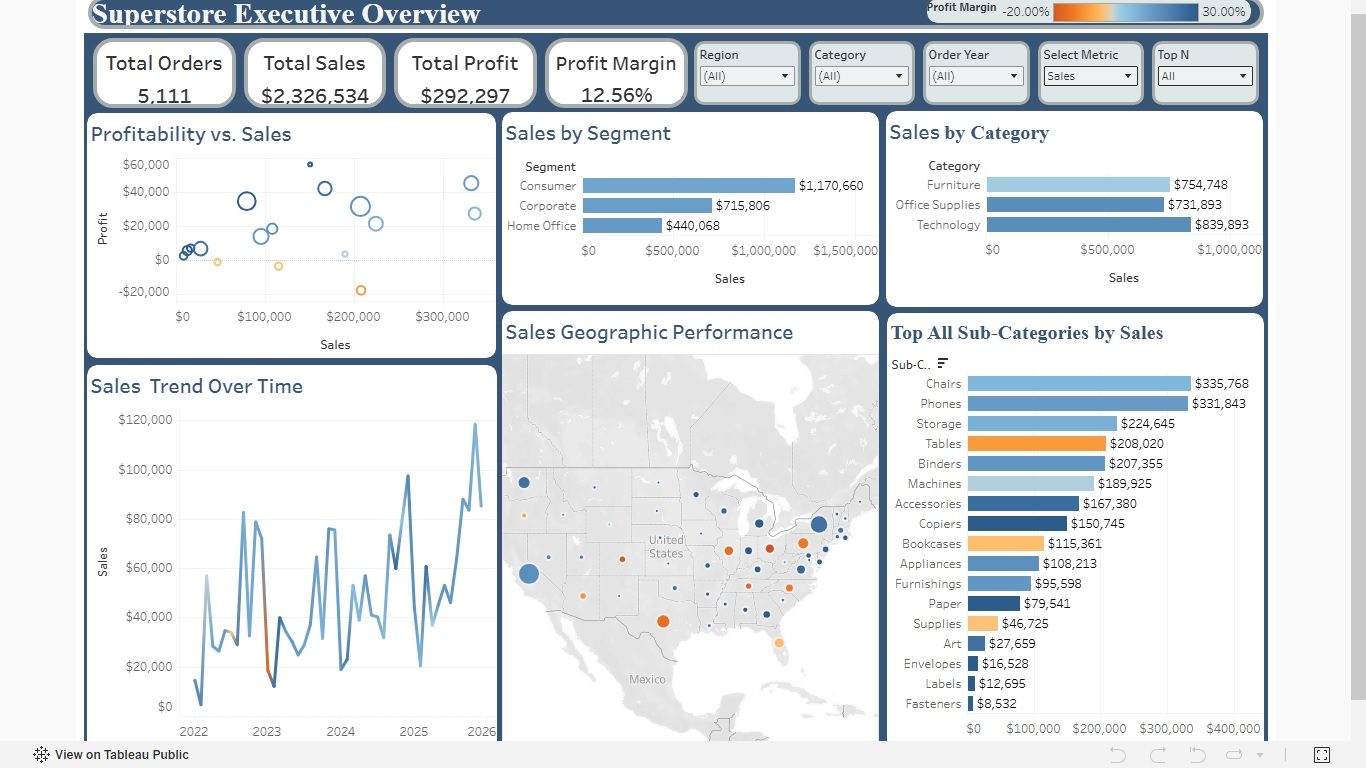

What the dashboard file says about the page in this screenshot:
{"tool":"tableau","page":{"name":"Superstore Executive Overview","canvas":[1200,800],"ordinal":0},"visuals":[{"type":"title","box":[8,8,1184,41]},{"type":"legend","title":"Trend Over Time","param":"[federated.060zt360kq1izj10k21l51pnn2om].[usr:Calculation_0393075875905536:qk]","box":[851,15,324,24]},{"type":"worksheet","title":"Total Orders","mark":"Text","box":[13,50,150.7,78]},{"type":"worksheet","title":"Total Sales","mark":"Text","box":[163.7,50,150.7,78]},{"type":"worksheet","title":"Total Profit","mark":"Text","box":[314.5,50,150.7,78]},{"type":"worksheet","title":"Profit Margin","mark":"Text","box":[465.2,50,150.7,78]},{"type":"filter","title":"Geographic Performance","param":"[federated.060zt360kq1izj10k21l51pnn2om].[none:Region:nk]","box":[614,53,114.6,72]},{"type":"filter","title":"Performance by Category","param":"[federated.060zt360kq1izj10k21l51pnn2om].[none:Category:nk]","box":[728.6,53,114.6,72]},{"type":"filter","title":"Trend Over Time","param":"[federated.060zt360kq1izj10k21l51pnn2om].[yr:Order Date:ok]","box":[843.2,53,114.6,72]},{"type":"parameter","param":"[Parameters].[Parameter 0393075880640514]","box":[957.8,53,114.6,72]},{"type":"parameter","param":"[Parameters].[Parameter 0393075967025156]","box":[1072.4,53,114.6,72]},{"type":"worksheet","title":"Performance by Category","mark":"Automatic","rows":["Category"],"cols":["Calculation_0393075882872835"],"box":[810,127,377,196]},{"type":"worksheet","title":"Performance by Segment","mark":"Automatic","rows":["Segment"],"cols":["Calculation_0393075882872835"],"box":[426,128,377,193]},{"type":"worksheet","title":"Profitability vs. Sales","mark":"Automatic","rows":["Profit"],"cols":["Sales"],"box":[11,129,409,245]},{"type":"worksheet","title":"Geographic Performance","mark":"Automatic","box":[426,327,377,461]},{"type":"worksheet","title":"Top Sub-Categories","mark":"Automatic","rows":["Sub-Category"],"cols":["Calculation_0393075882872835"],"box":[811,329,377,459]},{"type":"worksheet","title":"Trend Over Time","mark":"Automatic","rows":["Calculation_0393075882872835"],"cols":["Order Date"],"box":[11,381,410,408]}]}

Visuals, with their boxes in screenshot pixels (x1, y1, x2, y2):
title: (x1=90, y1=0, x2=1252, y2=30)
"Trend Over Time" legend: (x1=918, y1=0, x2=1236, y2=21)
"Total Orders" worksheet (Text marks): (x1=95, y1=31, x2=243, y2=108)
"Total Sales" worksheet (Text marks): (x1=243, y1=31, x2=391, y2=108)
"Total Profit" worksheet (Text marks): (x1=391, y1=31, x2=539, y2=108)
"Profit Margin" worksheet (Text marks): (x1=539, y1=31, x2=687, y2=108)
"Geographic Performance" filter: (x1=685, y1=34, x2=797, y2=105)
"Performance by Category" filter: (x1=797, y1=34, x2=910, y2=105)
"Trend Over Time" filter: (x1=910, y1=34, x2=1022, y2=105)
parameter: (x1=1022, y1=34, x2=1135, y2=105)
parameter: (x1=1135, y1=34, x2=1247, y2=105)
"Performance by Category" worksheet: (x1=877, y1=107, x2=1247, y2=299)
"Performance by Segment" worksheet: (x1=500, y1=108, x2=870, y2=297)
"Profitability vs. Sales" worksheet: (x1=93, y1=109, x2=494, y2=349)
"Geographic Performance" worksheet: (x1=500, y1=303, x2=870, y2=756)
"Top Sub-Categories" worksheet: (x1=878, y1=305, x2=1248, y2=756)
"Trend Over Time" worksheet: (x1=93, y1=356, x2=495, y2=757)
